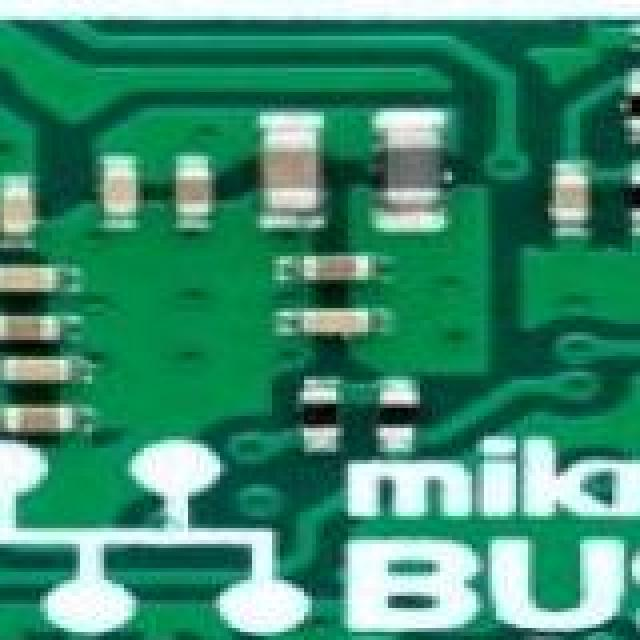capacitor: (380, 132, 454, 218), (268, 132, 334, 218), (12, 400, 78, 442), (548, 164, 592, 226), (0, 192, 48, 248), (96, 168, 140, 228), (0, 352, 76, 386), (176, 168, 214, 220), (0, 264, 52, 300), (0, 312, 60, 336)
resistor: (296, 392, 346, 446), (380, 396, 426, 448), (624, 84, 640, 140), (632, 160, 640, 212)
